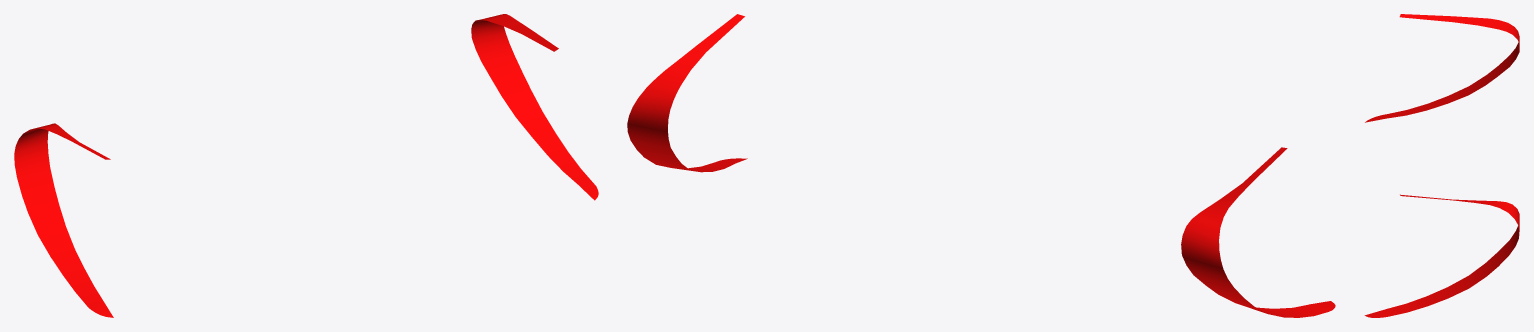
Rendered from Veyron_Fender01_Trim.fbx.
3 views of the same model, side by side, from view 1: azimuth 30°, elevation 25°; view 2: azimuth 150°, elevation 25°; view 3: azimuth 270°, elevation 25° (orthographic). The views are drawn at different scales.
Visible parts, largest first — view 1: Veyron_Fender01_Trim; view 2: Veyron_Fender01_Trim; view 3: Veyron_Fender01_Trim.
Boxes of the visible parts, box(x1,y1,x2,y2) form: Veyron_Fender01_Trim: box(14, 14, 598, 317); Veyron_Fender01_Trim: box(627, 14, 1335, 317); Veyron_Fender01_Trim: box(1364, 14, 1519, 317).
Size of the model in its own units: 24.37 by 19.73 by 75.19.
